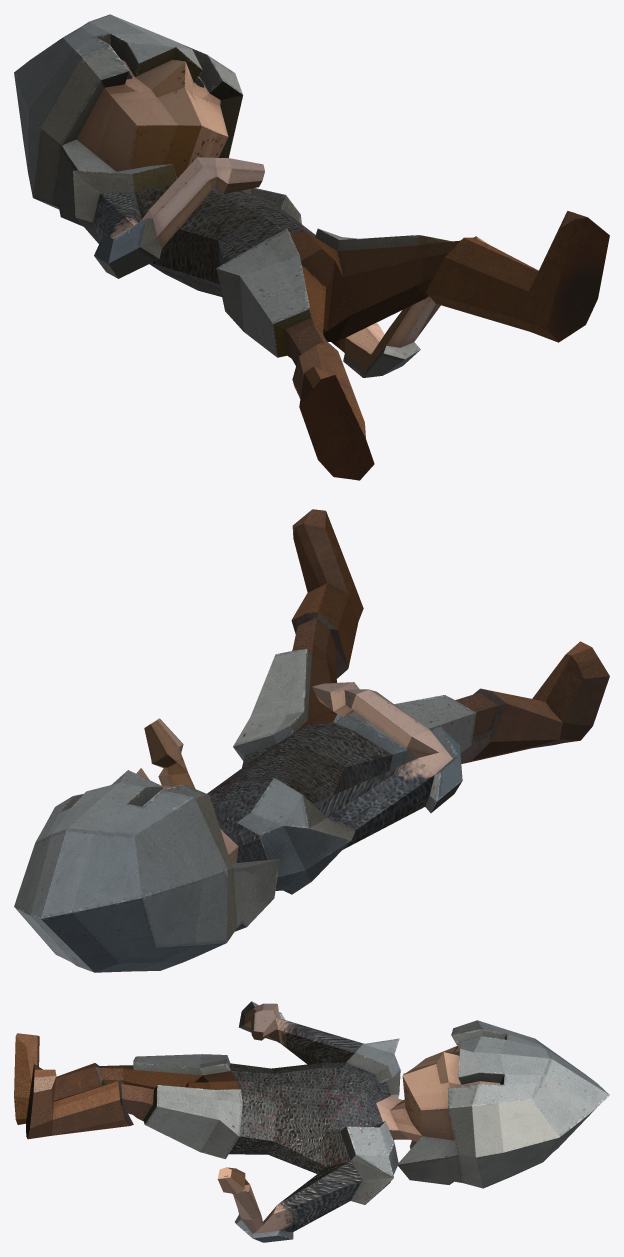
File: Walk_Soldier_12.obj
3 views of the same model, one above another, from view 1: azimuth 30°, elevation 25°; view 2: azimuth 150°, elevation 25°; view 3: azimuth 270°, elevation 25° (orthographic). The views are drawn at different scales.
Visible parts, largest first — view 1: Soldado_LowPolySTD; view 2: Soldado_LowPolySTD; view 3: Soldado_LowPolySTD.
Boxes of the visible parts, x1,y1,x2,y2 form: Soldado_LowPolySTD: (14, 14, 609, 480); Soldado_LowPolySTD: (14, 509, 609, 972); Soldado_LowPolySTD: (14, 1001, 609, 1242).
Size of the model in its own units: 0.7745 by 0.5592 by 1.6.
